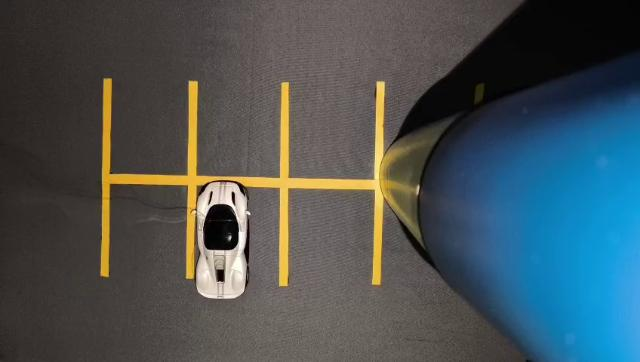toy_car: (179, 174, 276, 322)
